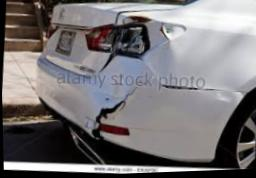Bumper: (66, 61, 242, 161)
Dickey: (44, 2, 180, 80)
Fender: (143, 21, 255, 96)
Light: (80, 15, 189, 75)
